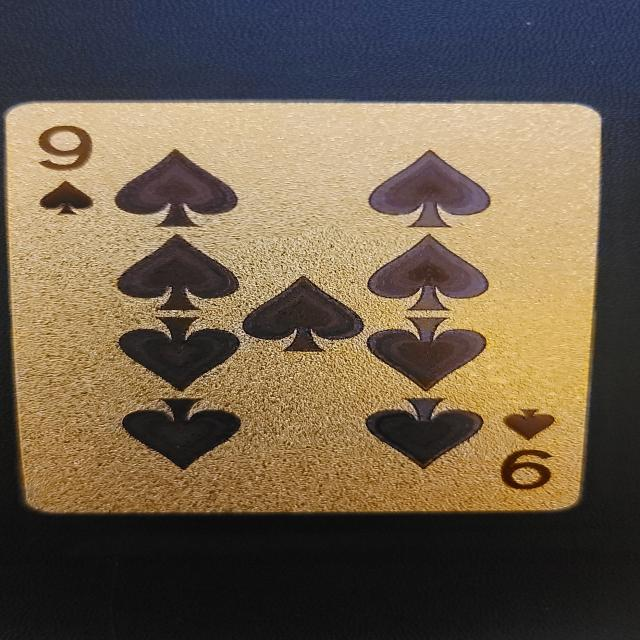9 of spades: (6, 102, 606, 516)
